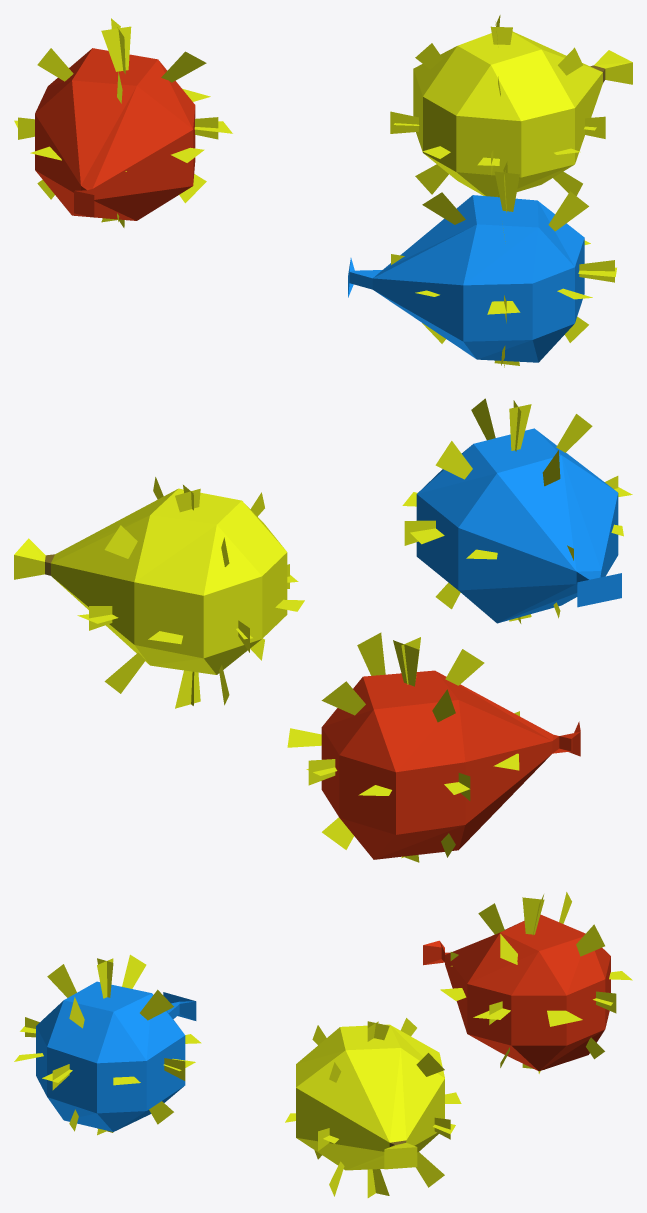
The model's file is obj_party_balloon_16_0.obj.
3 renders of one model, top to bottom at view 1: azimuth 30°, elevation 25°; view 2: azimuth 150°, elevation 25°; view 3: azimuth 270°, elevation 25°, orthographic. The views are drawn at different scales.
Bounding box in the file's own units: 0.7656 × 0.2656 × 0.875.
